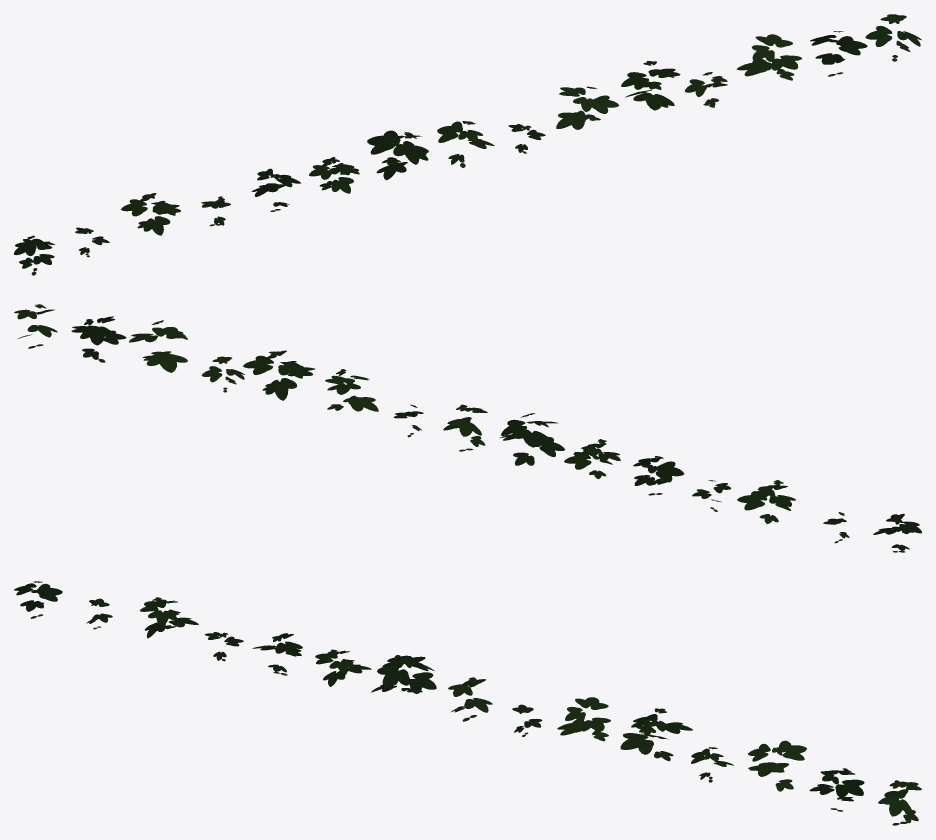
File: ROW_16_SEG4_foliage.dae
The picture shows the model from 3 angles, top to bottom: view 1: azimuth 30°, elevation 25°; view 2: azimuth 150°, elevation 25°; view 3: azimuth 330°, elevation 25°; orthographic projection.
Visible parts, largest first — view 1: ROW_16_SEG4_foliage; view 2: ROW_16_SEG4_foliage; view 3: ROW_16_SEG4_foliage.
Part boxes in pixels (x1,y1,x2,y2): ROW_16_SEG4_foliage: [14, 14, 921, 275]; ROW_16_SEG4_foliage: [14, 304, 921, 552]; ROW_16_SEG4_foliage: [14, 581, 921, 825].
Bounding box in the file's own units: 4.45 × 0.2943 × 0.2539.
